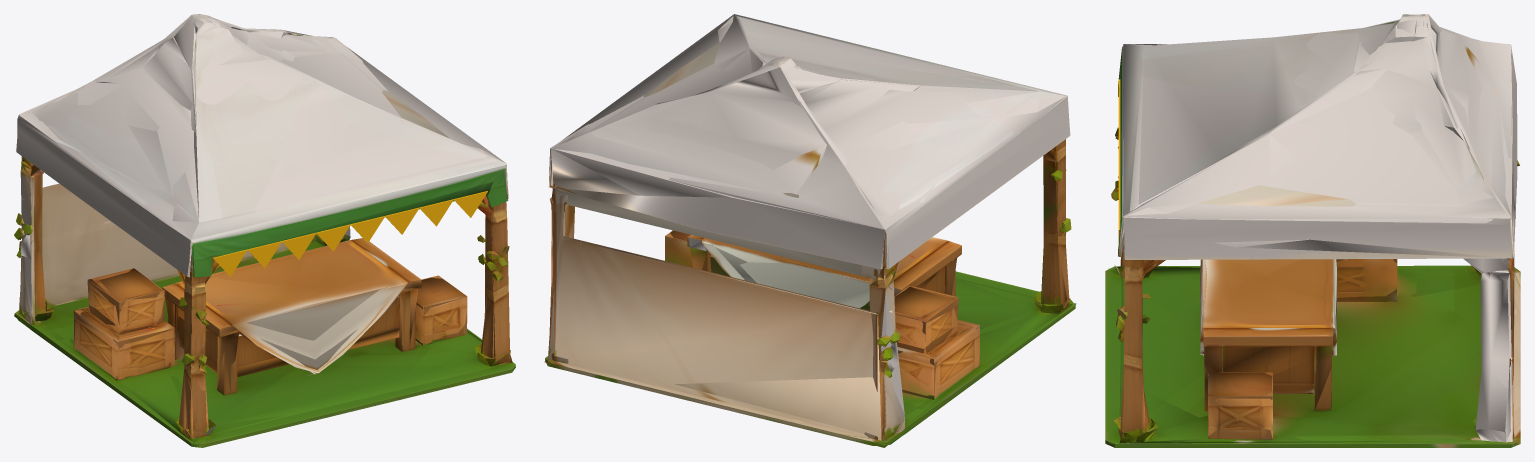
The model's file is Puesto1Feria.fbx.
The picture shows the model from 3 angles, left to right: view 1: azimuth 30°, elevation 25°; view 2: azimuth 150°, elevation 25°; view 3: azimuth 270°, elevation 25°; orthographic projection. The views are drawn at different scales.
Parts seen in each view (by area): view 1: PuestoFeriaAlta, PuestoFeriaBaja, PuestoFeriaMedia; view 2: PuestoFeriaAlta, PuestoFeriaBaja, PuestoFeriaMedia; view 3: PuestoFeriaAlta, PuestoFeriaBaja, PuestoFeriaMedia.
Boxes of the visible parts, x1,y1,x2,y2 form: PuestoFeriaAlta: (14,14,515,447); PuestoFeriaBaja: (15,14,512,446); PuestoFeriaMedia: (14,17,515,443); PuestoFeriaAlta: (545,15,1075,446); PuestoFeriaBaja: (544,14,1076,447); PuestoFeriaMedia: (545,16,1070,444); PuestoFeriaAlta: (1105,14,1520,447); PuestoFeriaBaja: (1109,14,1517,444); PuestoFeriaMedia: (1105,14,1520,445).
Size of the model in its own units: 190 by 165 by 186.
Materials: 3 (3 with a texture image).
